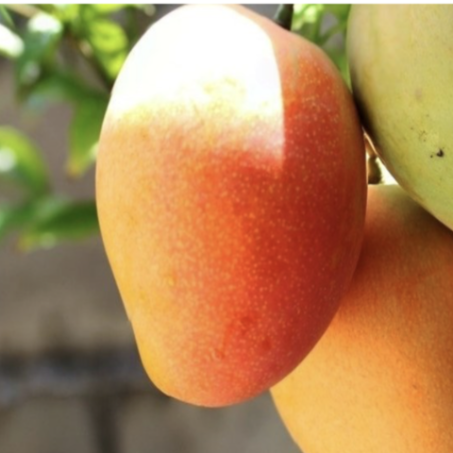mango: (71, 2, 406, 447)
